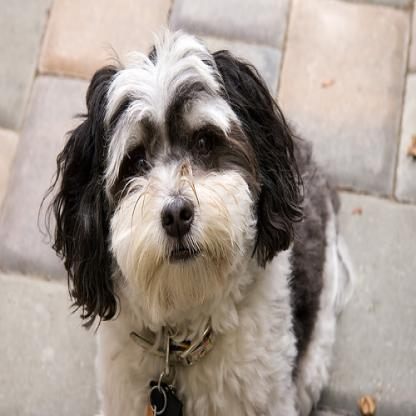dog: (36, 17, 355, 415)
